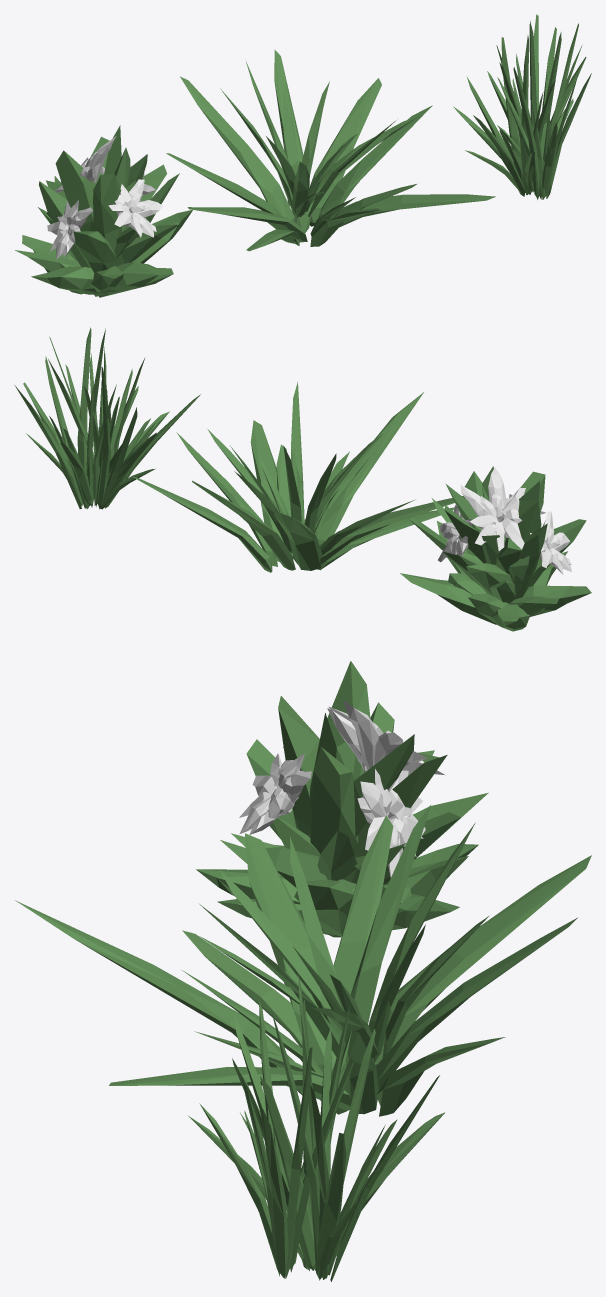
Rendered from Plants 1 Large.fbx.
3 views of the same model, one above another, from view 1: azimuth 30°, elevation 25°; view 2: azimuth 150°, elevation 25°; view 3: azimuth 270°, elevation 25° (orthographic). The views are drawn at different scales.
Parts seen in each view (by area): view 1: Plant 5 Large, Flower Plant 1 Large, Plant 8 Large; view 2: Plant 5 Large, Flower Plant 1 Large, Plant 8 Large; view 3: Plant 5 Large, Flower Plant 1 Large, Plant 8 Large.
Boxes of the visible parts, box(x1,y1,x2,y2) form: Plant 5 Large: box(166, 50, 495, 251); Flower Plant 1 Large: box(15, 125, 192, 297); Plant 8 Large: box(453, 14, 591, 199); Plant 5 Large: box(132, 382, 465, 572); Flower Plant 1 Large: box(400, 466, 591, 631); Plant 8 Large: box(14, 327, 200, 509); Plant 5 Large: box(15, 805, 591, 1116); Flower Plant 1 Large: box(196, 661, 488, 937); Plant 8 Large: box(188, 974, 444, 1281).
Size of the model in its own units: 525 by 163 by 281.
